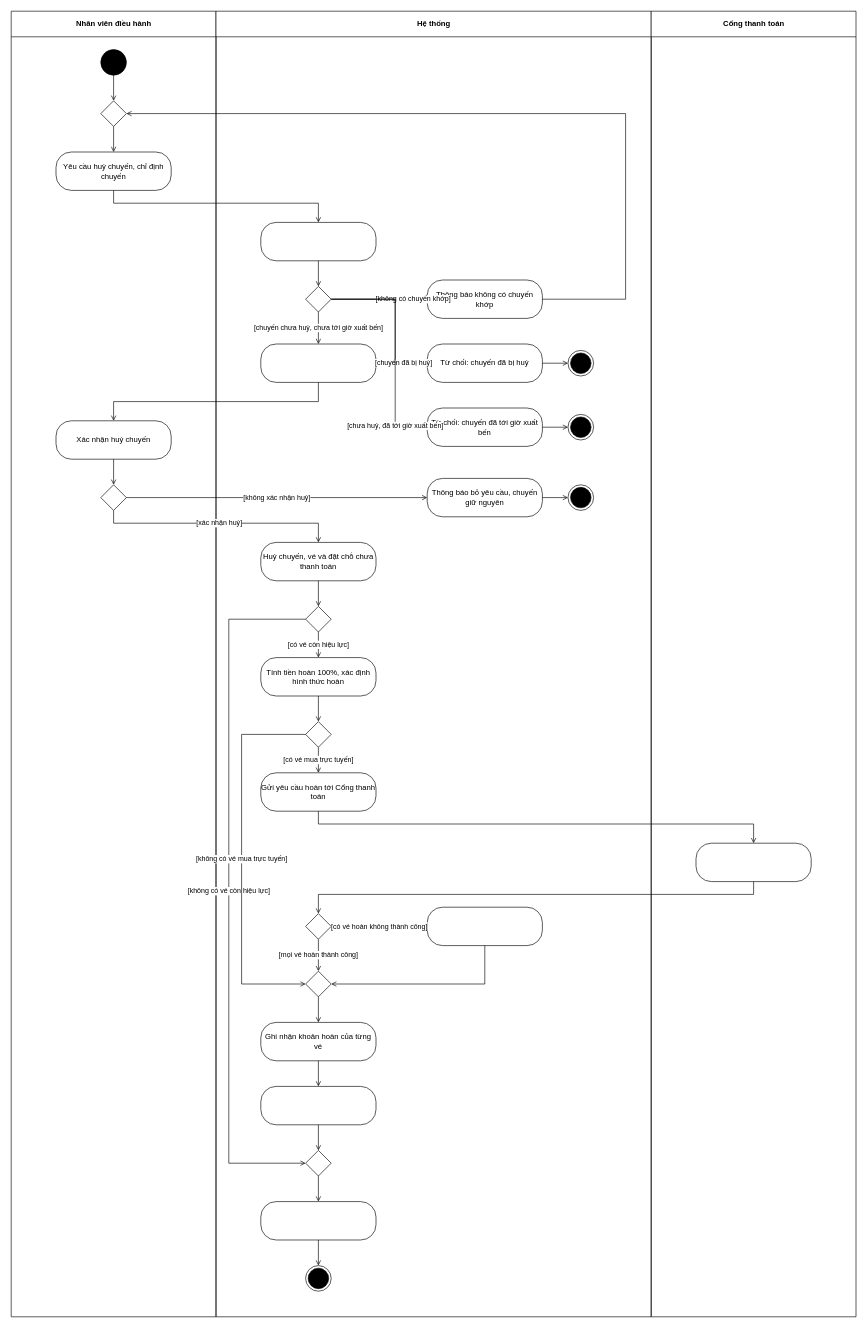
Image size: 867x1328. Some labels were removed from this diagram. Each missing label, with the centre of its shape:
"Ghi nhận khoản hoàn chưa thành công" goes at point 484,926.
"Gửi tin nhắn báo huỷ qua Cổng SMS" goes at point 318,1105.
"Hiển thị chuyến, số vé, tổng tiền hoàn" goes at point 318,362.
"Hiển thị kết quả huỷ chuyến" goes at point 318,1220.
"Kiểm tra chuyến còn huỷ được" goes at point 318,241.
"Trả về kết quả hoàn tiền từng vé" goes at point 753,862.
